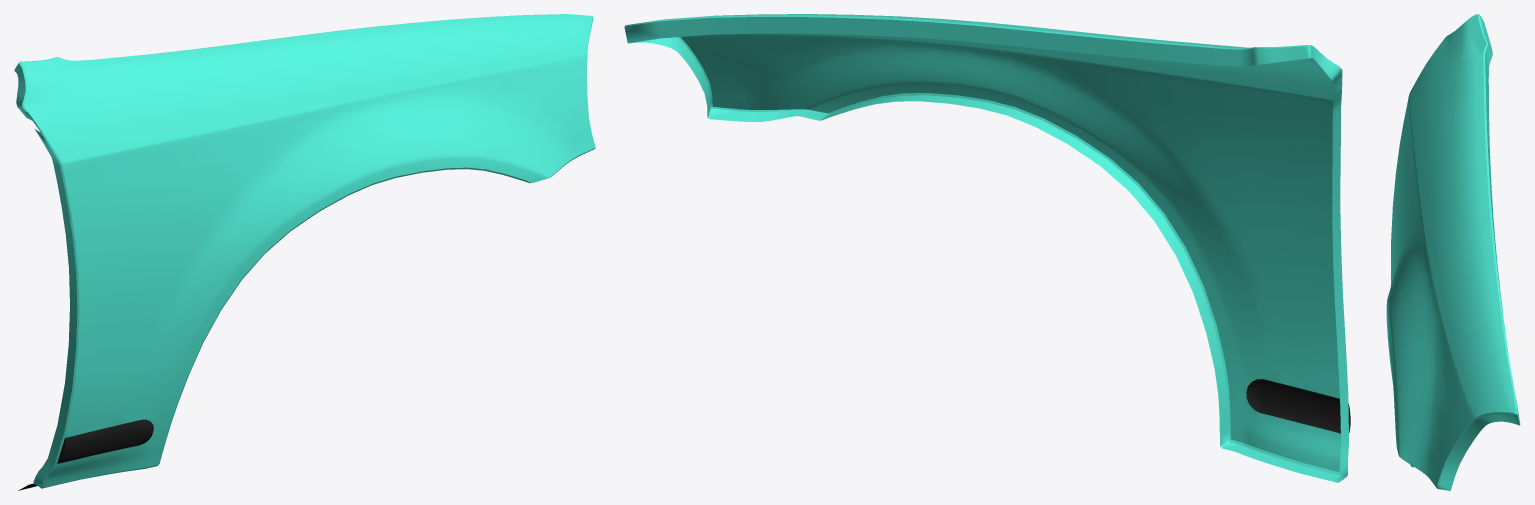
3 views of the same model, side by side, from view 1: azimuth 30°, elevation 25°; view 2: azimuth 150°, elevation 25°; view 3: azimuth 270°, elevation 25° (orthographic). The views are drawn at different scales.
Visible parts, largest first — view 1: H025_10_141B_R_H025_10_141B_R_1_DaS, H025_10_141B_R_H025_10_141B_R_1_DaS_E, H025_10_141B_R_H025_10_141B_R_2_D; view 2: H025_10_141B_R_H025_10_141B_R_1_DaS, H025_10_141B_R_H025_10_141B_R_1_DaS_E, H025_10_141B_R_H025_10_141B_R_2_D; view 3: H025_10_141B_R_H025_10_141B_R_1_DaS, H025_10_141B_R_H025_10_141B_R_1_DaS_E.
Boxes of the visible parts, x1=… form: H025_10_141B_R_H025_10_141B_R_1_DaS: x1=14, y1=14, x2=595, y2=487; H025_10_141B_R_H025_10_141B_R_1_DaS_E: x1=19, y1=14, x2=595, y2=488; H025_10_141B_R_H025_10_141B_R_2_D: x1=57, y1=419, x2=153, y2=463; H025_10_141B_R_H025_10_141B_R_1_DaS: x1=624, y1=14, x2=1348, y2=482; H025_10_141B_R_H025_10_141B_R_1_DaS_E: x1=625, y1=15, x2=1341, y2=475; H025_10_141B_R_H025_10_141B_R_2_D: x1=1246, y1=379, x2=1350, y2=433; H025_10_141B_R_H025_10_141B_R_1_DaS: x1=1386, y1=14, x2=1520, y2=490; H025_10_141B_R_H025_10_141B_R_1_DaS_E: x1=1386, y1=14, x2=1517, y2=488.
Bounding box in the file's own units: 102 × 64.57 × 19.26.
